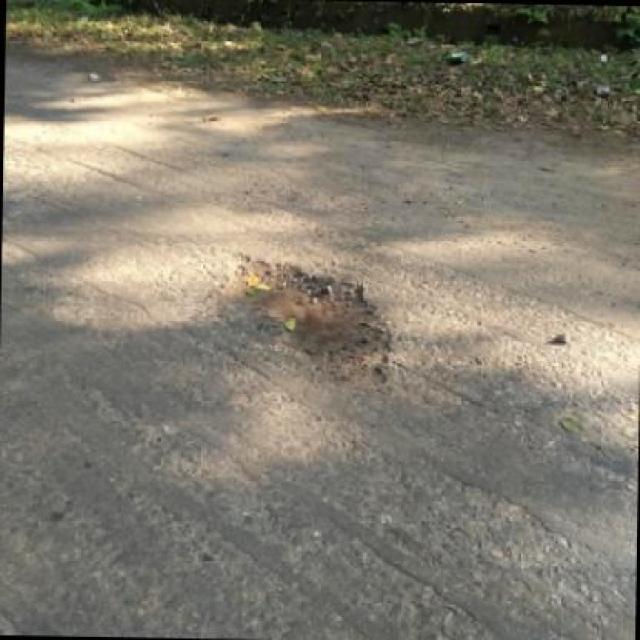pothole1: (213, 246, 399, 391)
